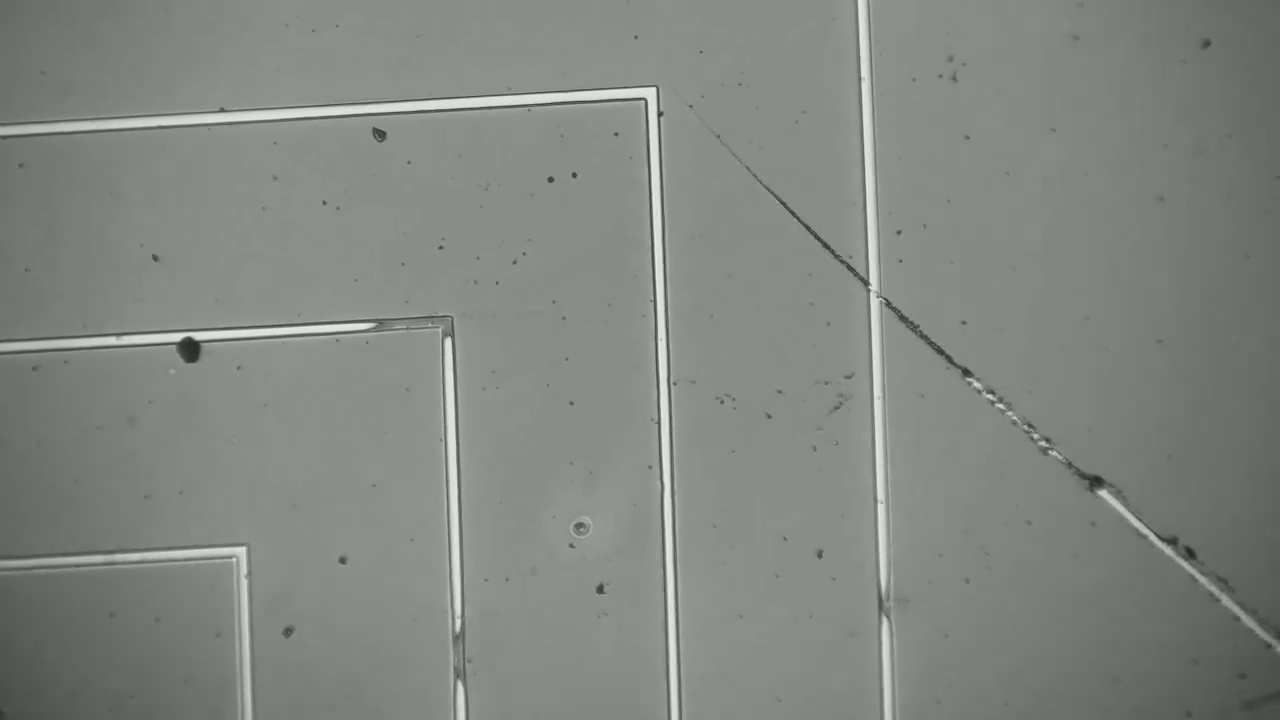gray_line: (356, 309, 470, 338), (437, 612, 472, 696), (867, 583, 907, 636), (435, 306, 465, 353)
scratch: (706, 126, 1275, 640)
stains_enbedded: (166, 318, 205, 376)
